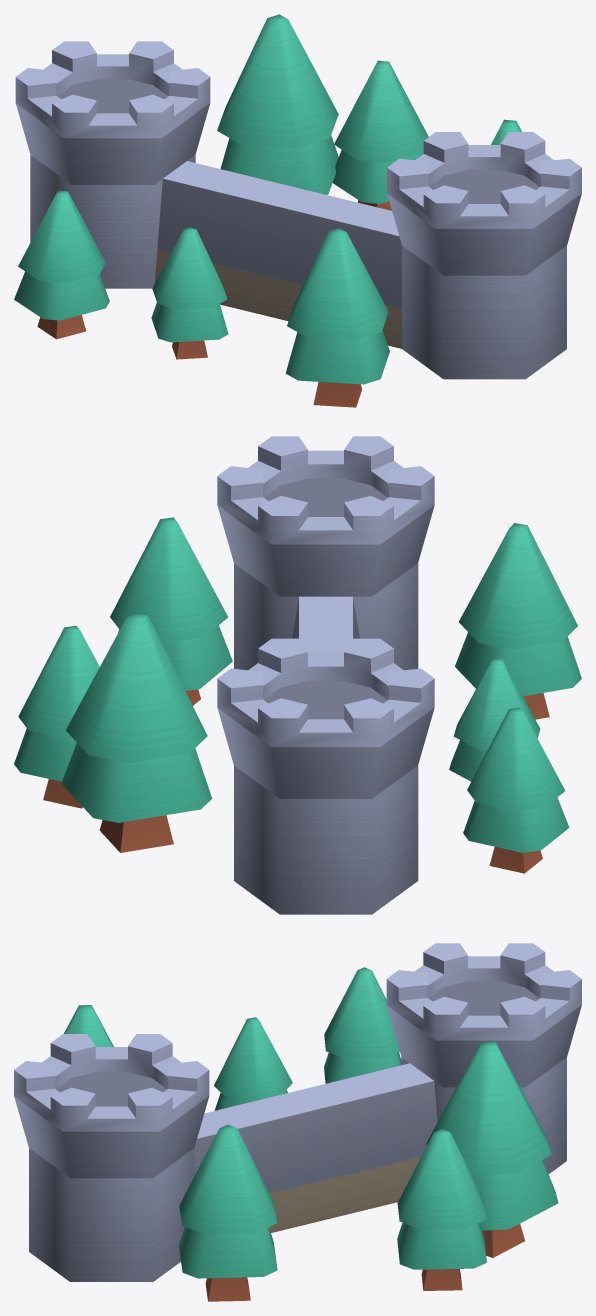
File: hx_building-wall.glb
The picture shows the model from 3 angles, top to bottom: view 1: azimuth 30°, elevation 25°; view 2: azimuth 150°, elevation 25°; view 3: azimuth 270°, elevation 25°; orthographic projection. The views are drawn at different scales.
Bounding box in the file's own units: 0.922 × 0.38 × 0.9902.
1 material, 1 textured.
